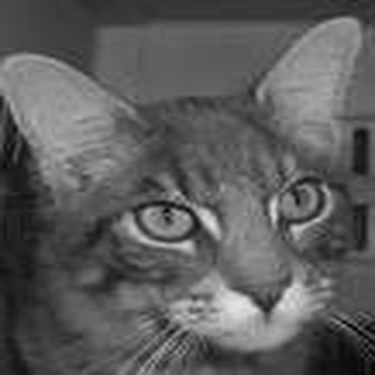cat: (2, 18, 365, 367)
